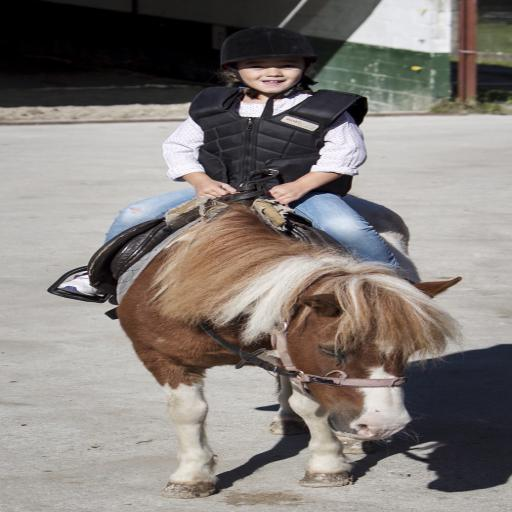horse: (111, 199, 466, 497)
